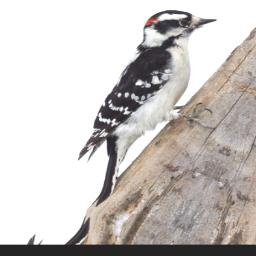Woodpecker: (46, 0, 256, 232)
